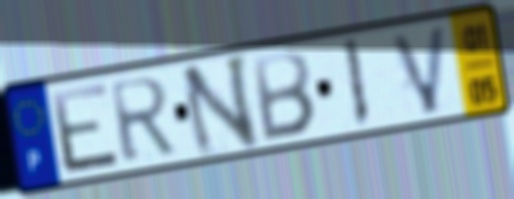B: (250, 48, 318, 145)
E: (47, 79, 125, 178)
I: (340, 34, 373, 132)
N: (177, 50, 262, 162)
R: (106, 74, 179, 167)
V: (387, 21, 450, 119)
